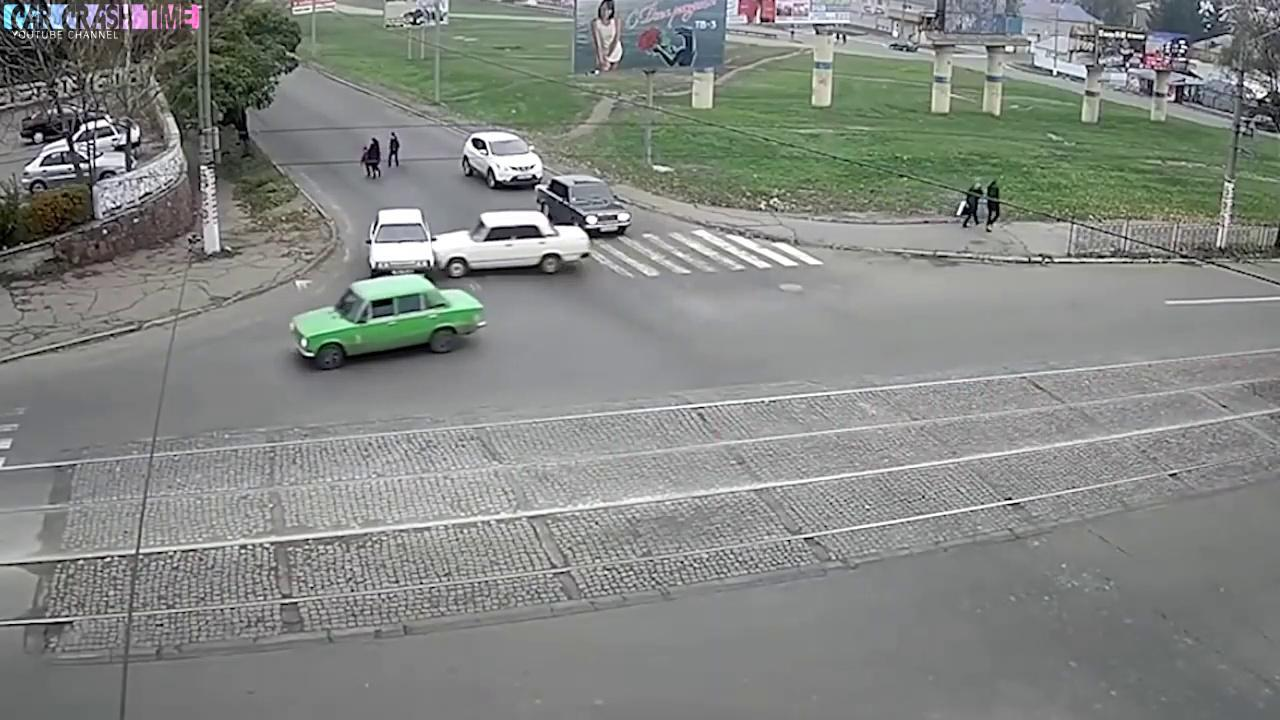car-accident: (365, 205, 595, 277)
